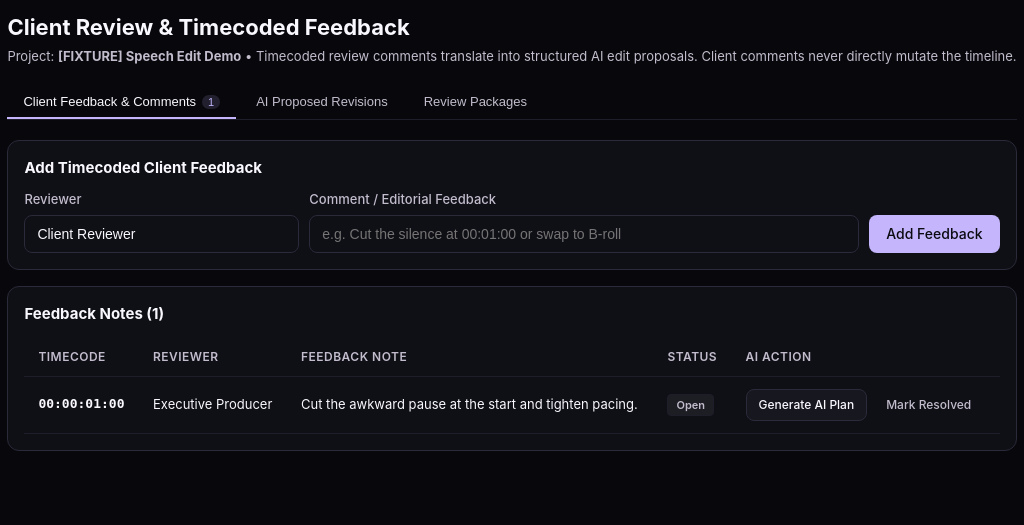
it: ReviewRoute UI & Workflow › renders timecoded comments table and allows adding new feedback note
Expected: the heading "Client Review & Timecoded Feedback" is shown, [7, 14, 410, 40]
Expected: the text "Executive Producer" is shown, [139, 376, 287, 433]
// Add feedback note
Type "Color balance seems too dark here" into the field with placeholder "e.g. Cut the silence at 00:01:00 or swap to B-roll" at coordinates (584, 234), box [309, 215, 859, 253]
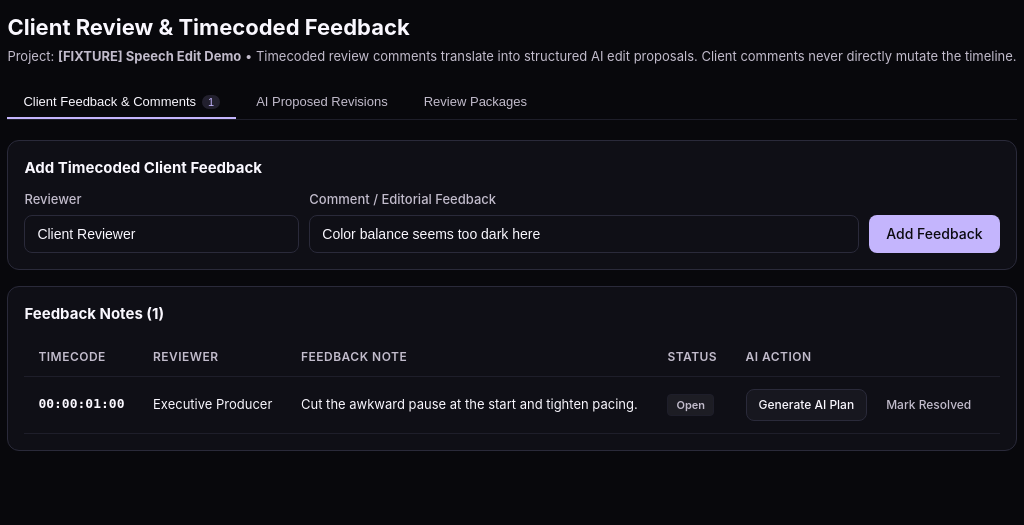
Click the button "Add Feedback" at coordinates (934, 234), box [869, 215, 1000, 253]
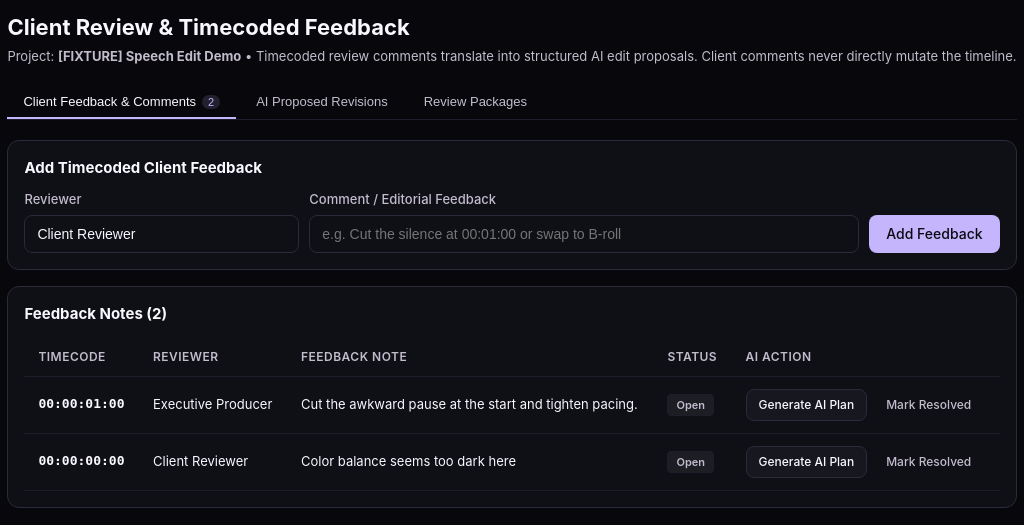
Expected: the text "Color balance seems too dark here" is shown, [287, 433, 653, 490]
